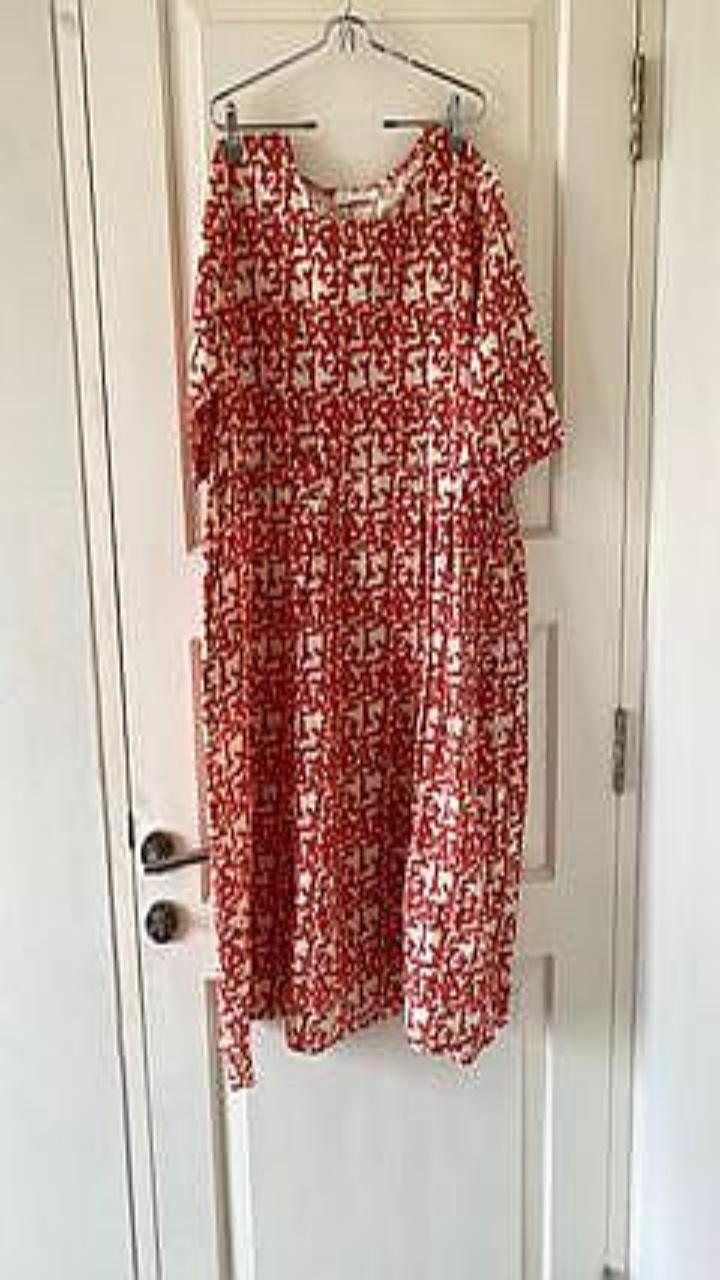Dresses: (188, 125, 562, 1084)
